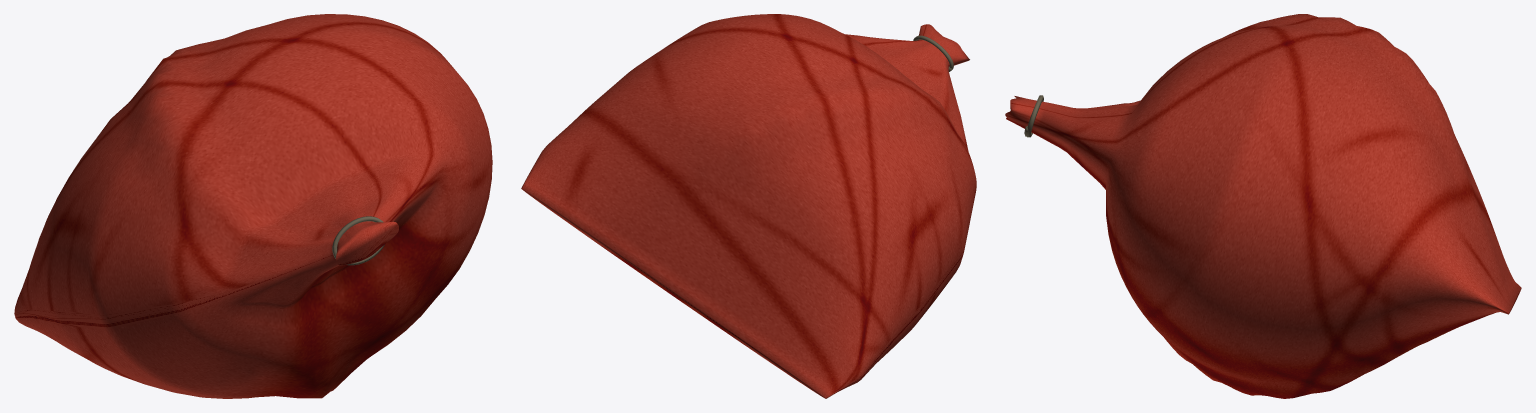
File: peach_00_006.glb
3 renders of one model, left to right at view 1: azimuth 30°, elevation 25°; view 2: azimuth 150°, elevation 25°; view 3: azimuth 270°, elevation 25°, orthographic. The views are drawn at different scales.
Visible parts, largest first — view 1: export_Tree00/shoot1_2_1/bag, export_Tree00/shoot1_2_1/bag/tie; view 2: export_Tree00/shoot1_2_1/bag; view 3: export_Tree00/shoot1_2_1/bag.
Boxes of the visible parts, x1=… form: export_Tree00/shoot1_2_1/bag: x1=14, y1=14, x2=492, y2=398; export_Tree00/shoot1_2_1/bag/tie: x1=332, y1=216, x2=384, y2=265; export_Tree00/shoot1_2_1/bag: x1=521, y1=14, x2=976, y2=398; export_Tree00/shoot1_2_1/bag: x1=1005, y1=14, x2=1521, y2=398.
Bounding box in the file's own units: 0.1205 × 0.0924 × 0.1244.
Materials: 4 (1 with a texture image).
